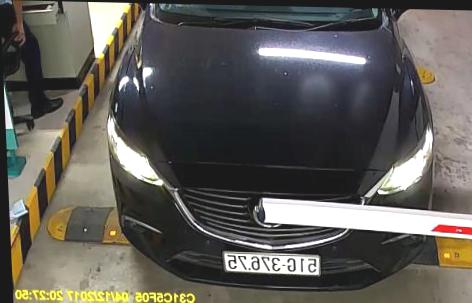License_Plate: (223, 251, 322, 277)
